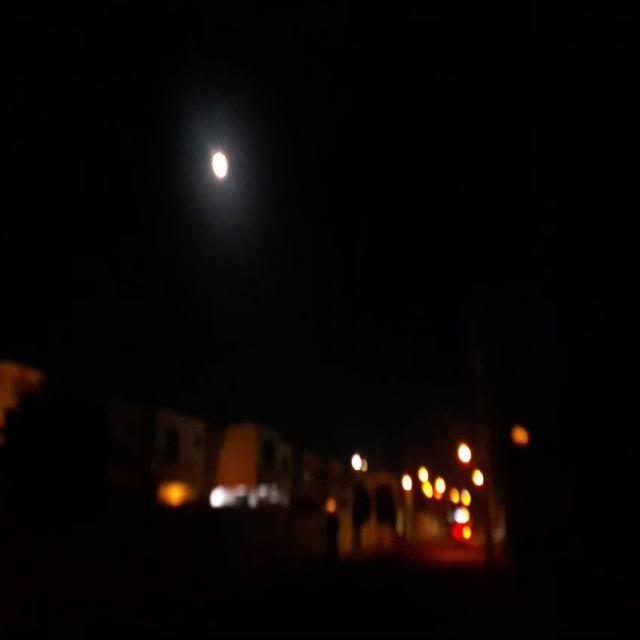moon: (208, 146, 228, 180)
